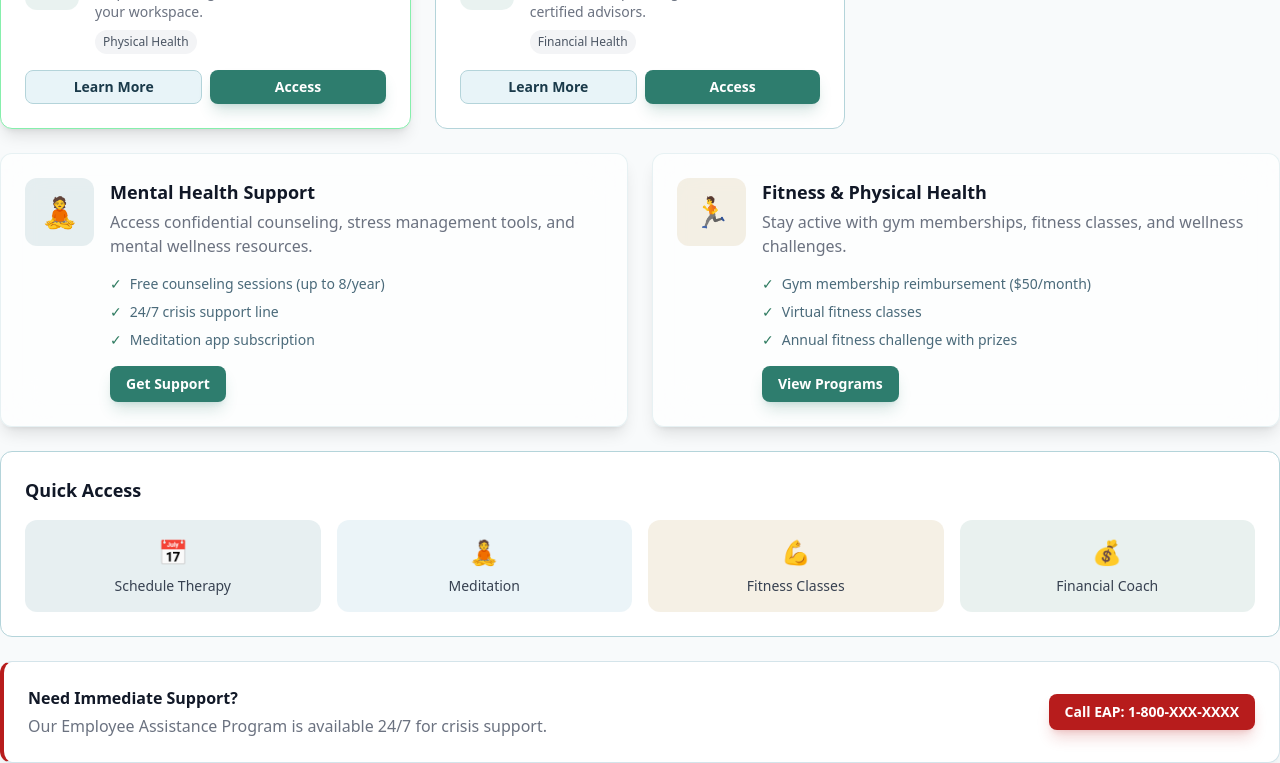
Wellness Component › opens support modal when Get Support is clicked
(page scrolled)
Click the button with test id "get-support-button" at (168, 384), box [110,366,226,402]
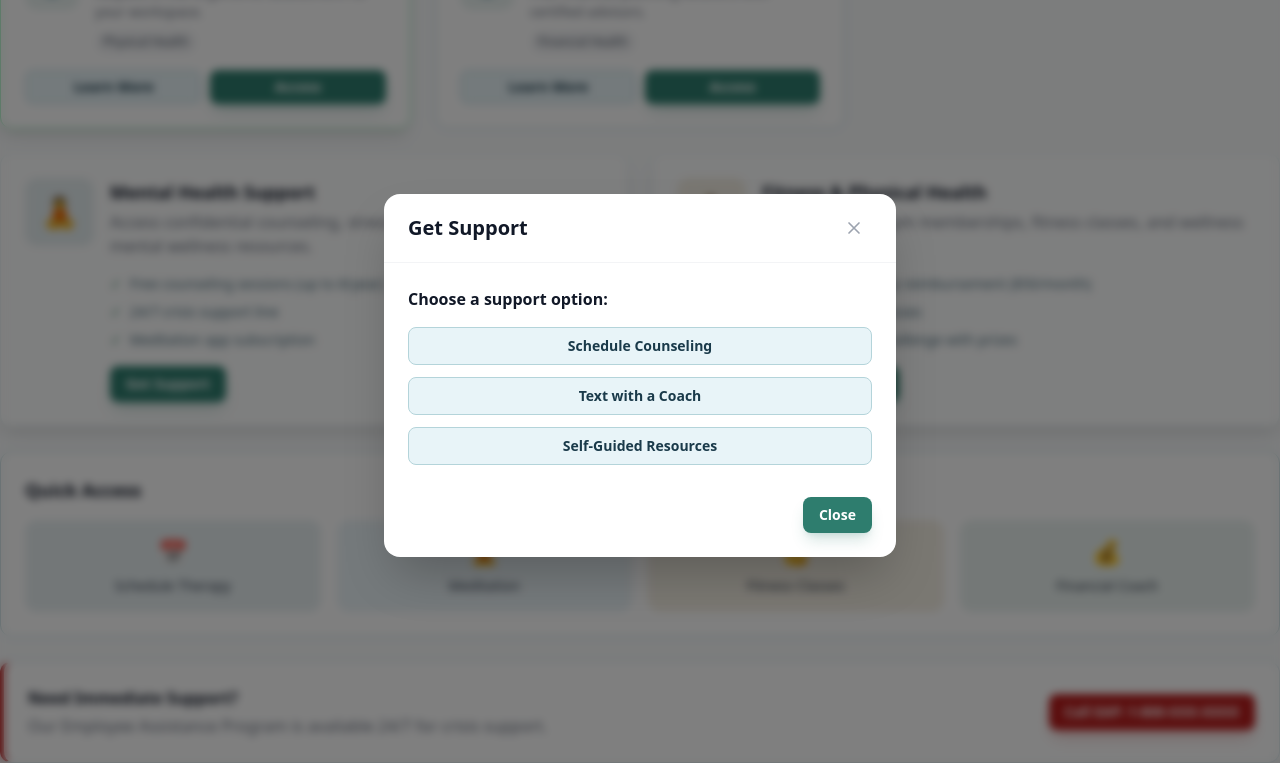
Now the heading "Choose a support option:" is shown, box [408,288,608,310]
